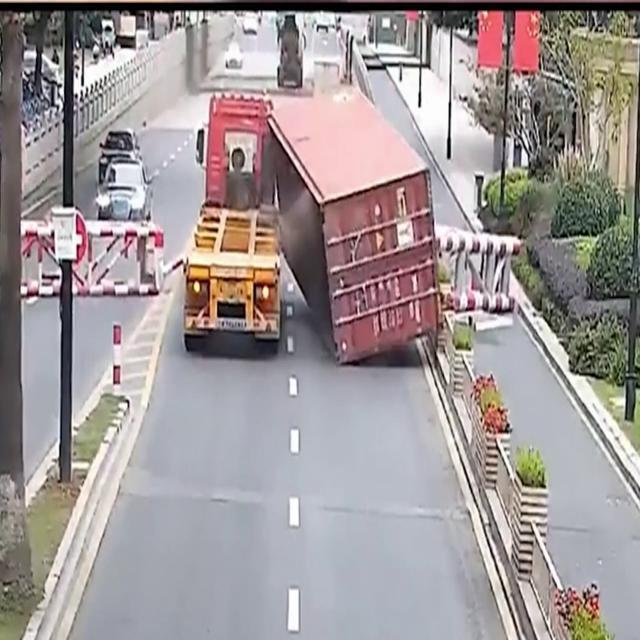accident: (181, 83, 447, 371)
non-accident: (93, 127, 155, 233)
